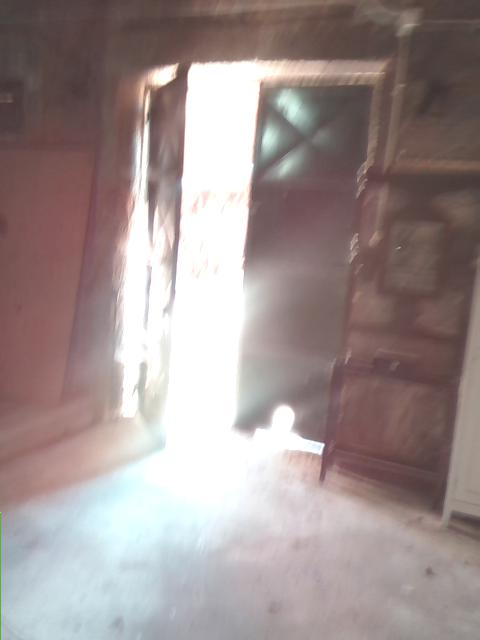semi_door: (121, 58, 377, 461)
